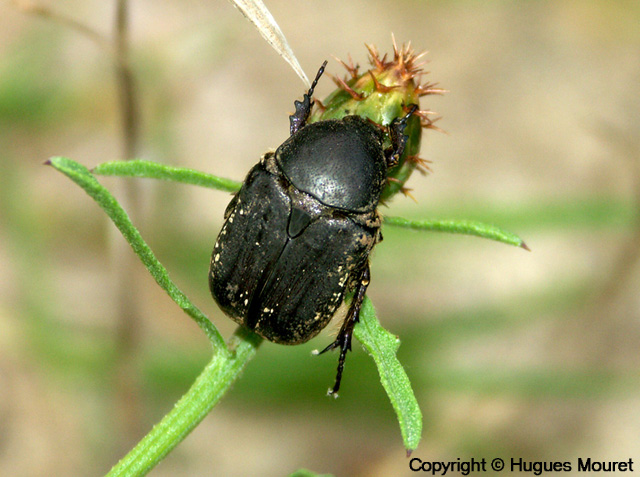Protaetia_oblonga: (206, 57, 423, 403)
